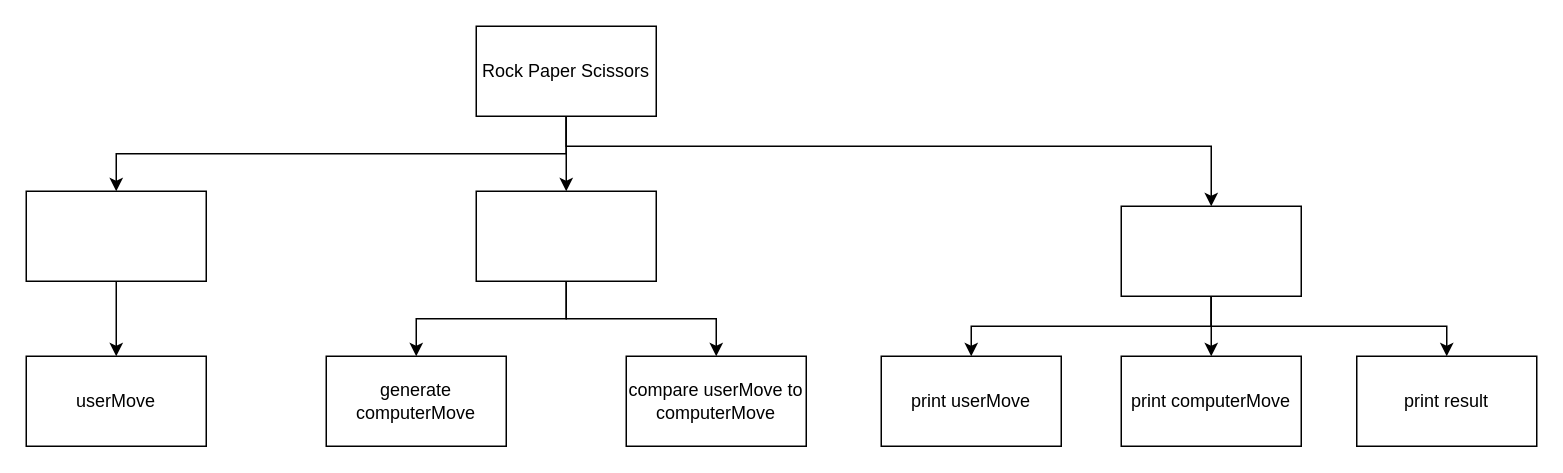
Some shapes in this 1563 by 473 pixel diagram are drawn without their labels. The box of each missing label's shape, as (x1, y1, x2, y2) in pixels:
Input: (25, 190, 206, 281)
Output: (1120, 205, 1301, 296)
Process: (475, 190, 656, 281)
